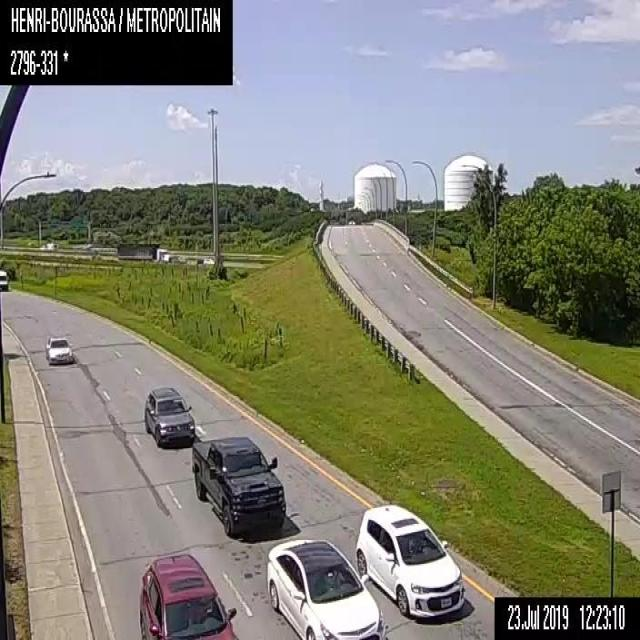vehicle: (355, 505, 464, 621), (266, 536, 385, 638), (190, 436, 286, 534), (136, 550, 238, 638), (144, 386, 194, 448), (116, 243, 170, 261), (44, 336, 72, 366), (0, 268, 7, 290), (202, 256, 214, 265), (348, 218, 355, 225)
